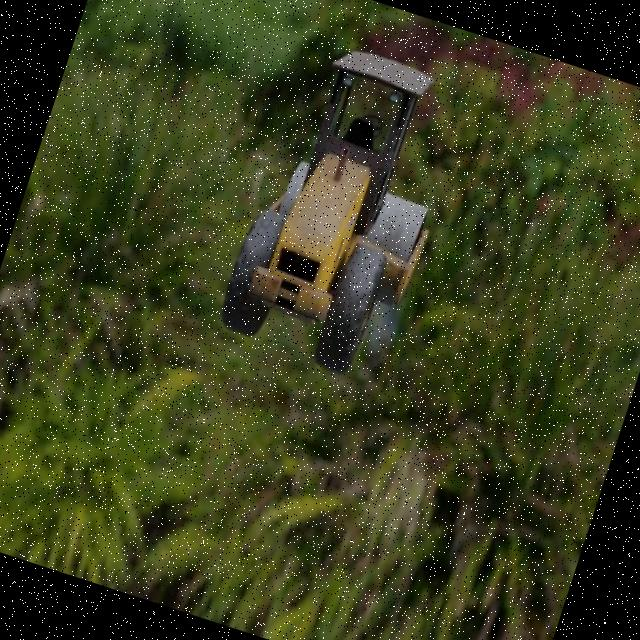Roller: (212, 33, 475, 386)
